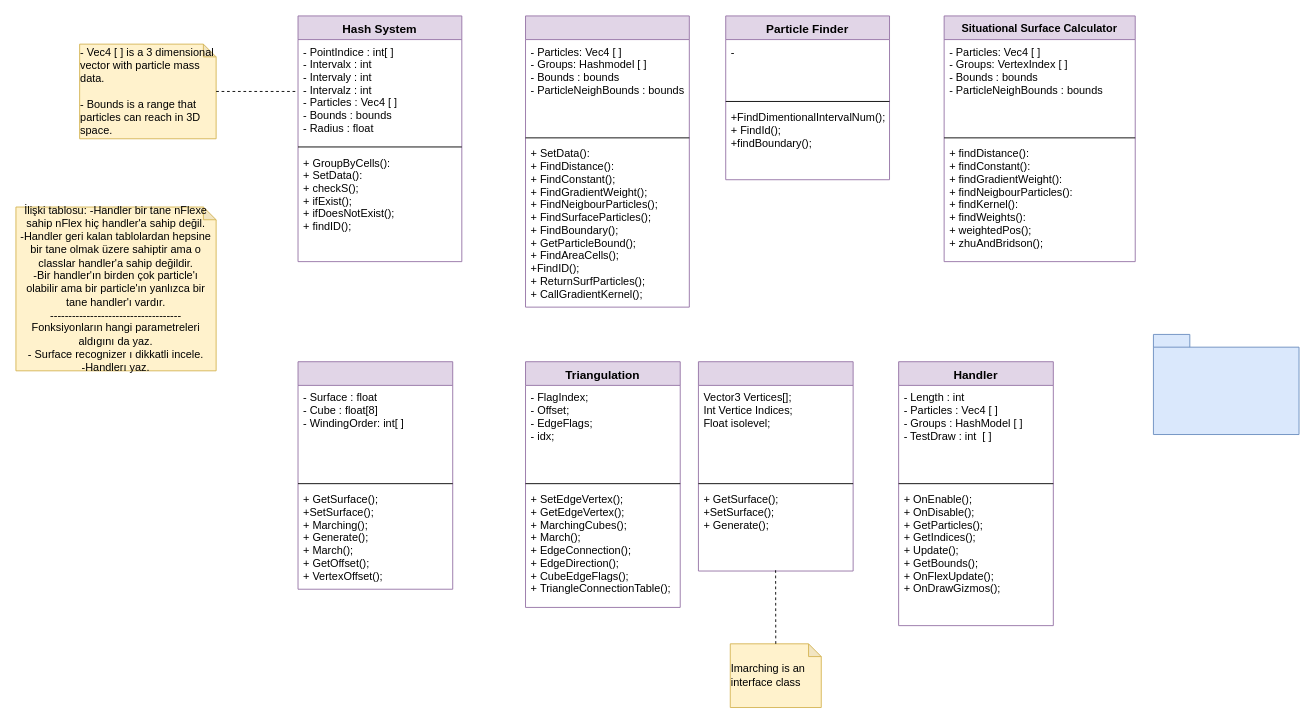
Image size: 1315x723. Some labels were removed from this diagram. The shapes that lost their labels are listed below. From the top down, each one's box as (x1, y1, x2, y2) in pixels, then its label:
(525, 15, 689, 307): Surface Recognizer
(1153, 334, 1299, 435): NVIDIA Flex
(297, 361, 453, 589): Marching Cubes
(698, 361, 853, 571): IMarching
